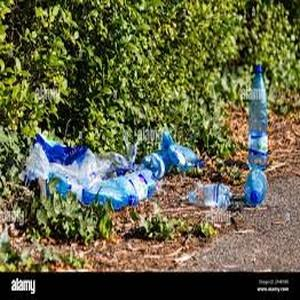Plastic: (88, 167, 158, 218), (245, 61, 272, 135), (186, 182, 236, 209)
